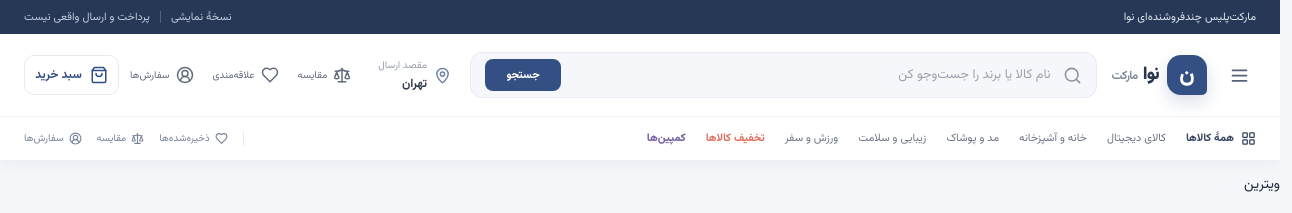
Test: SiteHeader › uses explicit search and utility labels and navigates to search results
Expected: the text "پرداخت و ارسال واقعی نیست" is shown, x1=24 y1=8 x2=150 y2=26
Expected: the link with aria-label "مقایسهٔ کالاها" is shown, x1=298 y1=66 x2=351 y2=84
Type "چراغ رومیزی" into the field named "جستجوی کالا" at coordinates (812, 75), box x1=571 y1=64 x2=1052 y2=86
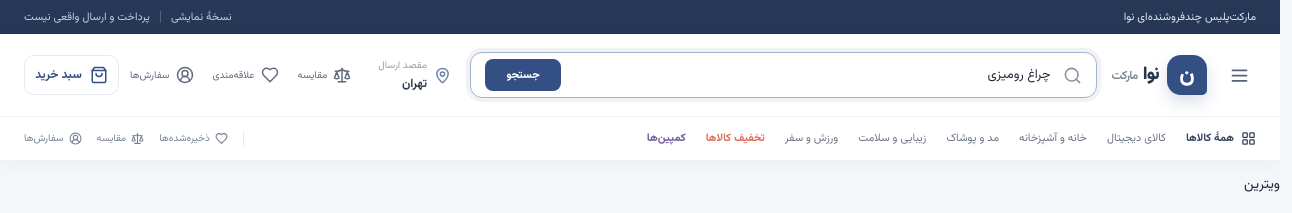
Click the button "جستجو" at coordinates (523, 75), box x1=485 y1=59 x2=561 y2=91
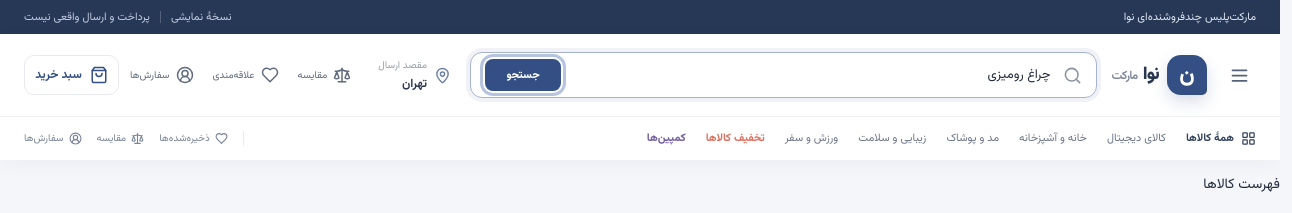
Now the text "فهرست کالاها" is shown, box x1=1203 y1=174 x2=1280 y2=196
